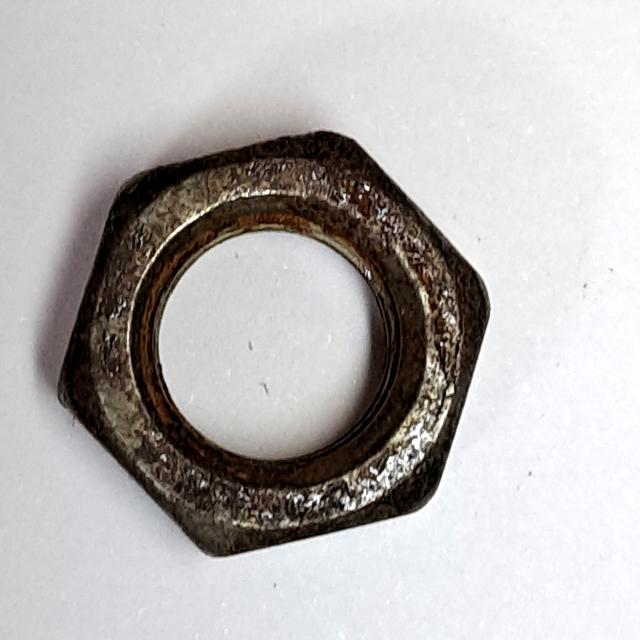Rust: (47, 119, 499, 572)
